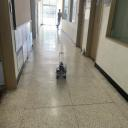cart: (56, 64, 66, 79)
